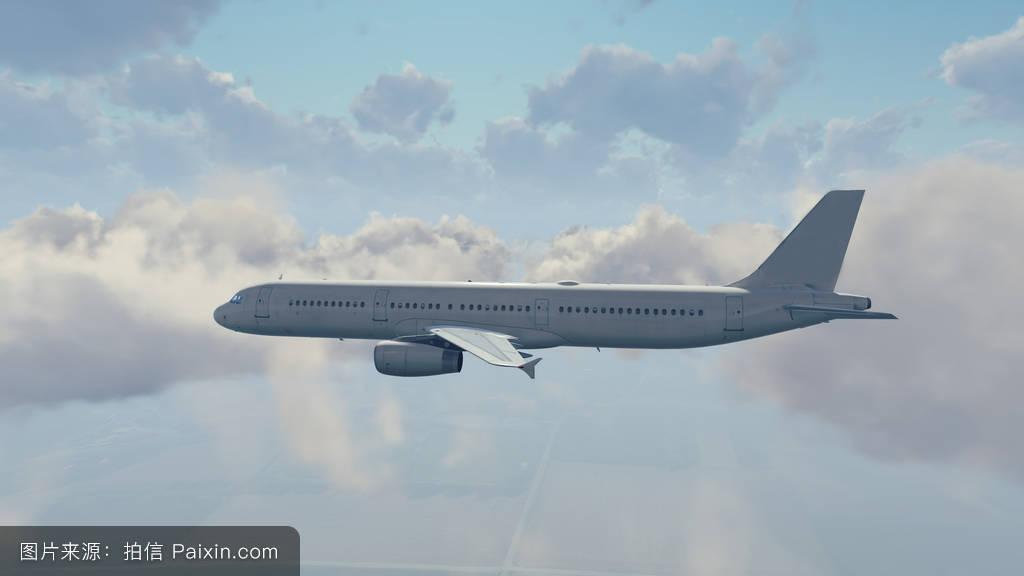airplane: (194, 184, 911, 381)
